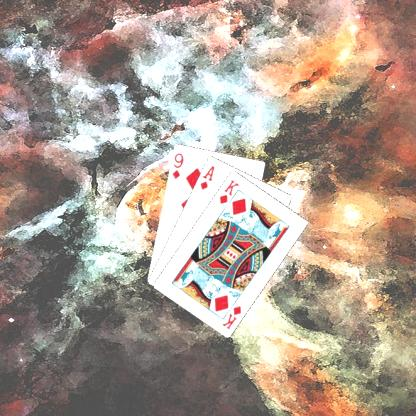9D: (169, 150, 185, 180)
AD: (198, 163, 216, 191)
KD: (219, 302, 243, 331), (217, 176, 240, 205)
